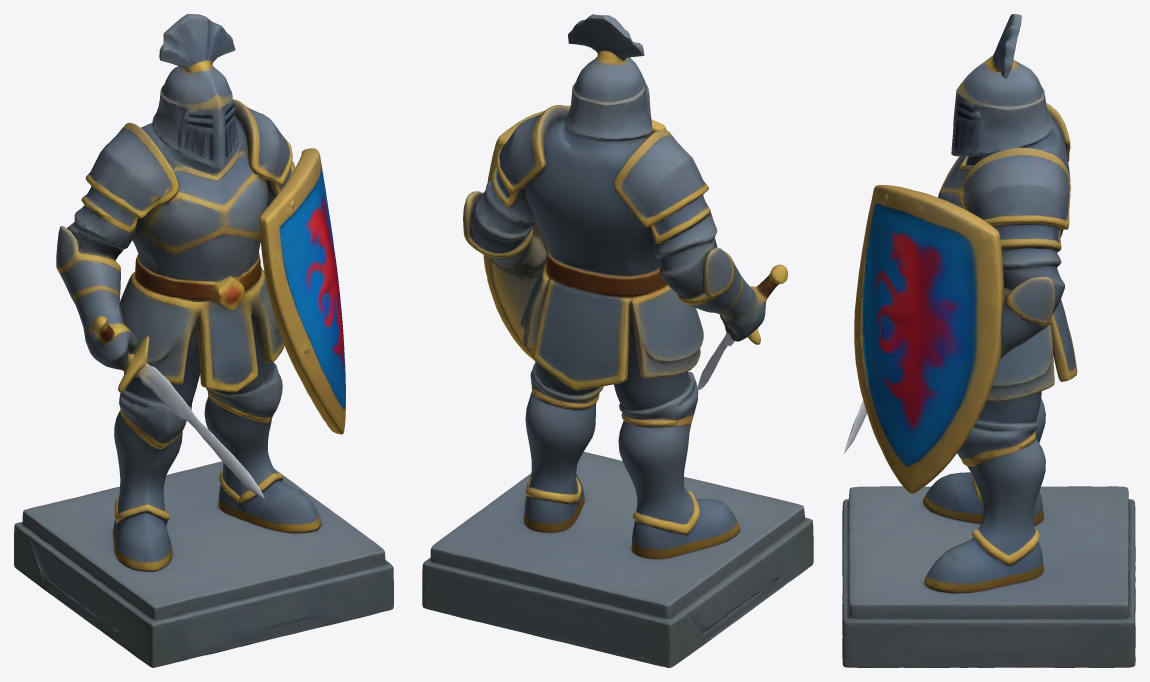
Rendered from knight_statue.glb.
3 views of the same model, side by side, from view 1: azimuth 30°, elevation 25°; view 2: azimuth 150°, elevation 25°; view 3: azimuth 270°, elevation 25° (orthographic). The views are drawn at different scales.
Visible parts, largest first — view 1: Mesh; view 2: Mesh; view 3: Mesh.
Boxes of the visible parts, x1=… form: Mesh: x1=14, y1=14, x2=393, y2=667; Mesh: x1=422, y1=14, x2=813, y2=667; Mesh: x1=842, y1=14, x2=1135, y2=667.
Size of the model in its own units: 0.9336 by 1.9 by 0.8527.
1 material, 1 textured.
